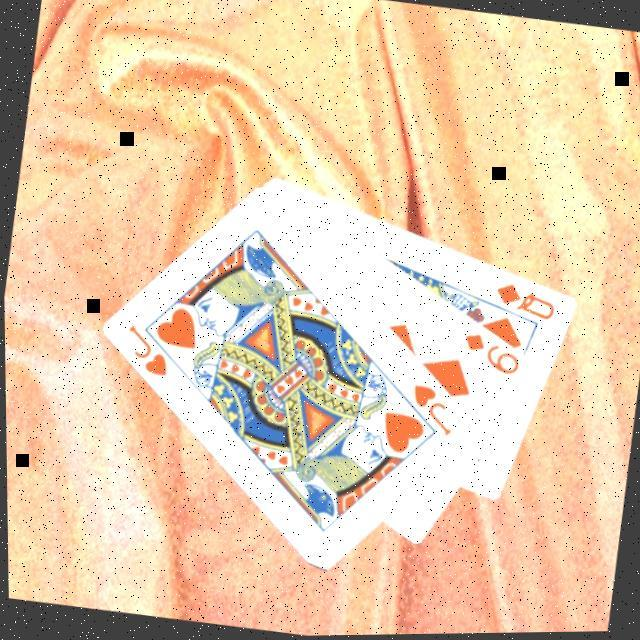9D: (454, 328, 525, 381)
JH: (117, 318, 176, 382), (402, 379, 460, 441)
QD: (487, 278, 561, 326)
